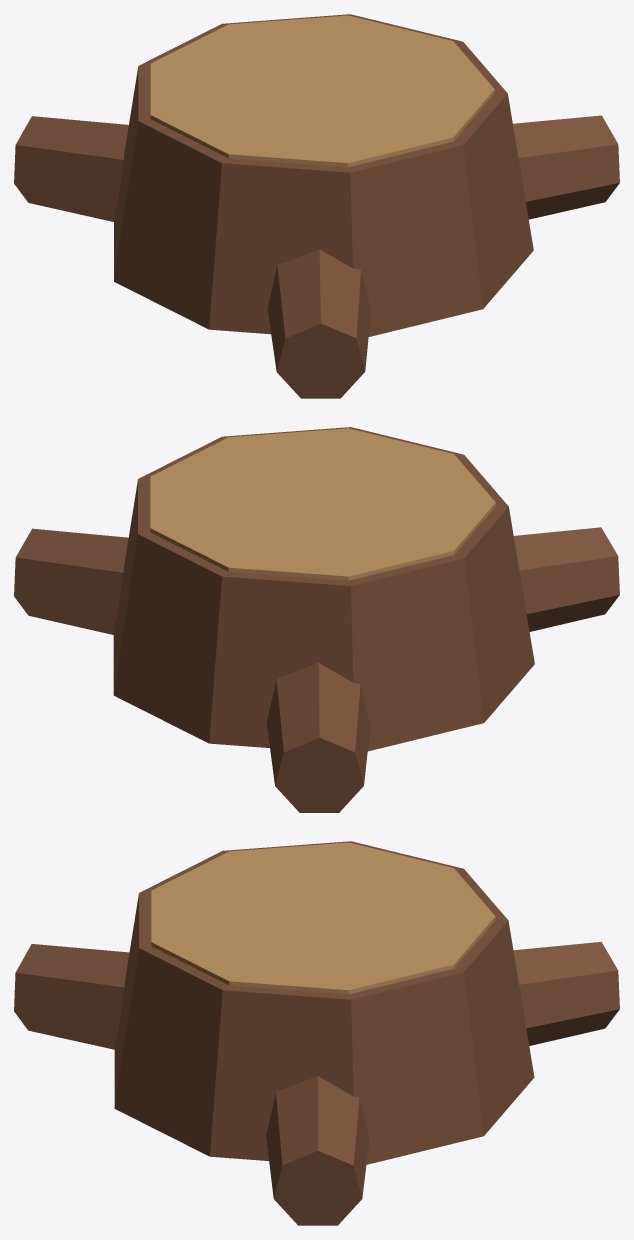
File: tree_stump_medium.glb
3 views of the same model, one above another, from view 1: azimuth 30°, elevation 25°; view 2: azimuth 150°, elevation 25°; view 3: azimuth 270°, elevation 25° (orthographic).
Parts seen in each view (by area): view 1: tree_stump_medium; view 2: tree_stump_medium; view 3: tree_stump_medium.
Part boxes in pixels (box(x1,y1,x2,y2)): tree_stump_medium: box(14, 14, 619, 398); tree_stump_medium: box(14, 427, 619, 812); tree_stump_medium: box(14, 841, 619, 1225).
Size of the model in its own units: 1 by 0.3539 by 1.12.
